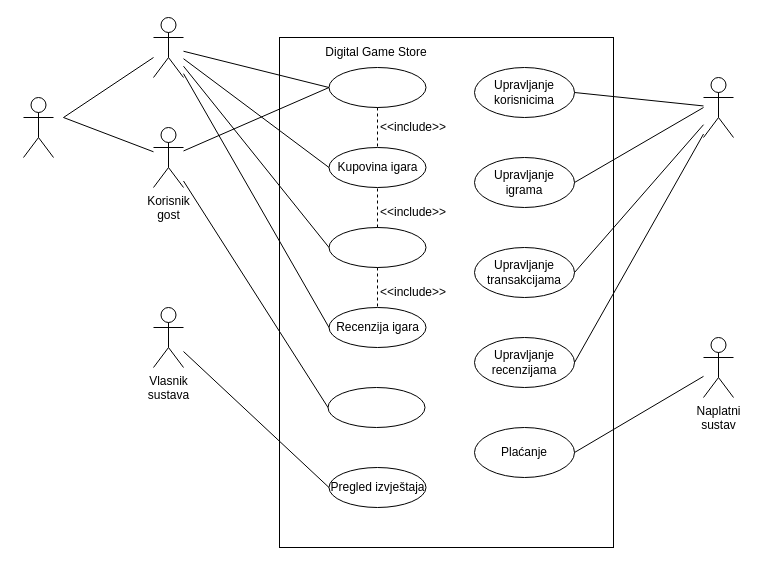
This 771x565 diagram has some shape labels left out. Here are the shapes that lost their labels. From the top down, the centre of each, then its label:
At (168,47): "Registrirani korisnik".
At (377,87): "Pregled igara".
At (718,107): "Administrator".
At (38,127): "Korisnik".
At (377,247): "Plaćanje igara".
At (376,407): "Registracija".
